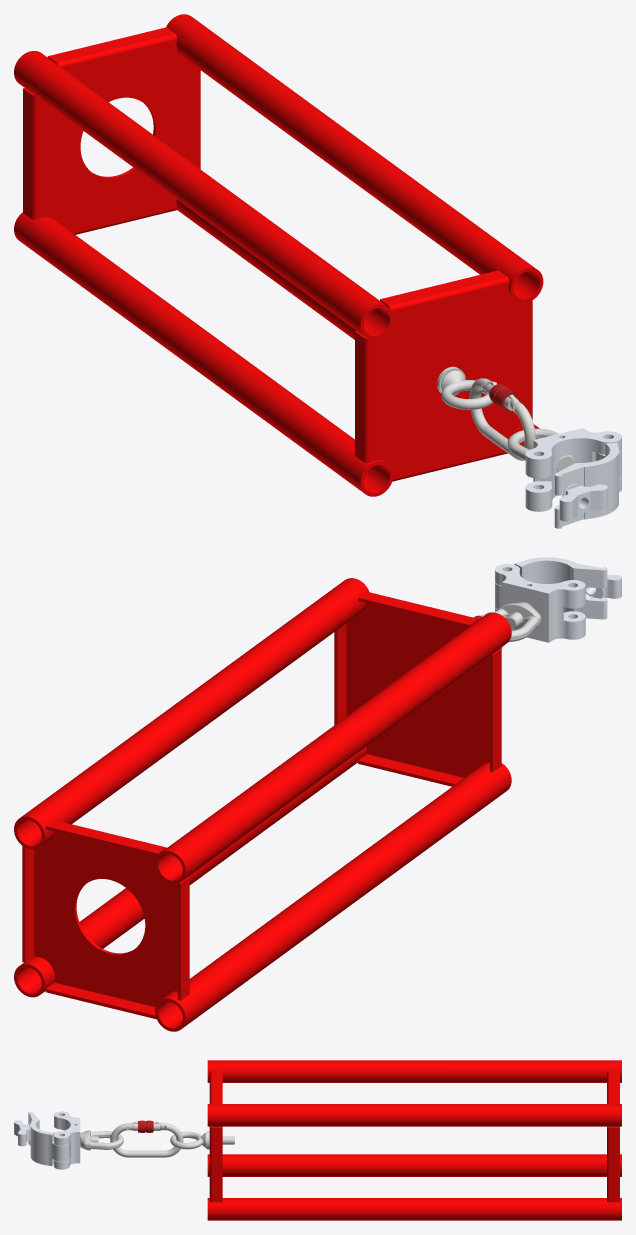
Rendered from RedShallowCage.fbx.
The picture shows the model from 3 angles, top to bottom: view 1: azimuth 30°, elevation 25°; view 2: azimuth 150°, elevation 25°; view 3: azimuth 270°, elevation 25°; orthographic projection. The views are drawn at different scales.
Visible parts, largest first — view 1: GE-25201-02, GE-25201-01, GE-25201-03.002, GE-25201-03, GE-25201-03.003, FE-01016.001, FE-01016.002, 3216T41_Carabiner, GE-25201-03.001, FE-01016.003, eyebolt_shoulder_.5_13_1.5; view 2: GE-25201-01, GE-25201-02, GE-25201-03.002, GE-25201-03, GE-25201-03.003, GE-25201-03.001, FE-01016.001, FE-01016.002, eyenut_.5-13_3019T18; view 3: GE-25201-03.003, GE-25201-03.001, GE-25201-03.002, GE-25201-03, GE-25201-02, GE-25201-01, FE-01016.002, 3216T41_Carabiner, FE-01016.001, eyenut_.5-13_3019T18, eyebolt_shoulder_.5_13_1.5, FE-01016.003.
Boxes of the visible parts, x1,y1,x2,y2 form: GE-25201-02: (355,270,532,481); GE-25201-01: (23,27,200,234); GE-25201-03.002: (14,51,393,339); GE-25201-03: (14,212,393,496); GE-25201-03.003: (166,14,543,303); FE-01016.001: (525,428,621,511); FE-01016.002: (554,442,621,528); 3216T41_Carabiner: (469,378,535,460); GE-25201-03.001: (176,199,539,446); FE-01016.003: (559,484,607,521); eyebolt_shoulder_.5_13_1.5: (441,370,493,409); GE-25201-01: (22,820,189,1019); GE-25201-02: (334,591,501,786); GE-25201-03.002: (155,612,511,883); GE-25201-03: (155,762,511,1031); GE-25201-03.003: (14,578,369,849); GE-25201-03.001: (14,746,366,997); FE-01016.001: (495,564,585,642); FE-01016.002: (495,557,607,619); eyenut_.5-13_3019T18: (495,602,541,642); GE-25201-03.003: (207,1104,621,1126); GE-25201-03.001: (207,1198,621,1220); GE-25201-03.002: (207,1060,621,1082); GE-25201-03: (207,1154,621,1176); GE-25201-02: (209,1070,222,1202); GE-25201-01: (607,1070,619,1202); FE-01016.002: (28,1111,69,1166); 3216T41_Carabiner: (110,1120,183,1157); FE-01016.001: (54,1111,80,1169); eyenut_.5-13_3019T18: (80,1130,123,1150); eyebolt_shoulder_.5_13_1.5: (170,1131,234,1149); FE-01016.003: (14,1120,30,1146).
Size of the model in its own units: 18.58 by 18.58 by 89.44.
